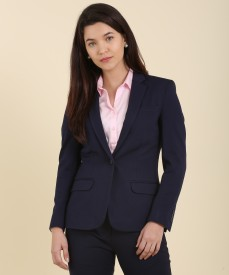F_W_suit jacket: (55, 72, 187, 236)
F_shirt: (90, 71, 139, 152)
